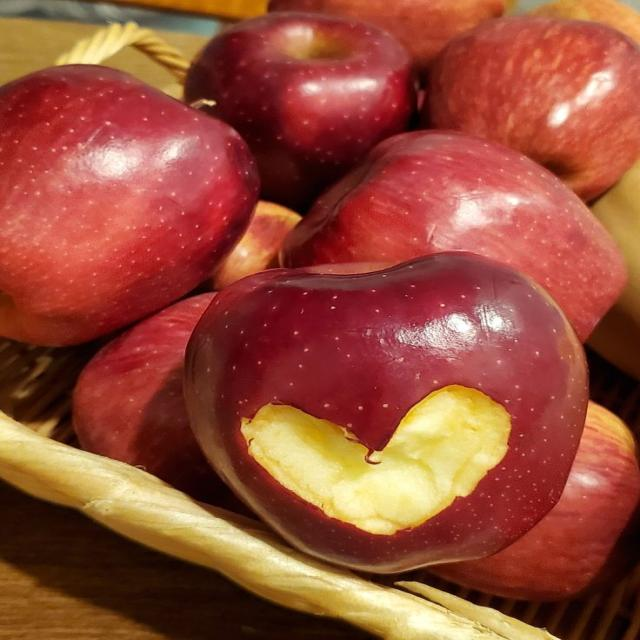apple: (186, 252, 586, 572), (0, 65, 259, 345), (283, 131, 626, 340), (185, 12, 416, 212), (431, 402, 639, 600), (422, 16, 639, 200), (73, 293, 226, 503), (269, 0, 505, 69), (589, 161, 639, 380), (211, 201, 301, 289), (530, 0, 639, 41), (301, 262, 393, 274)
